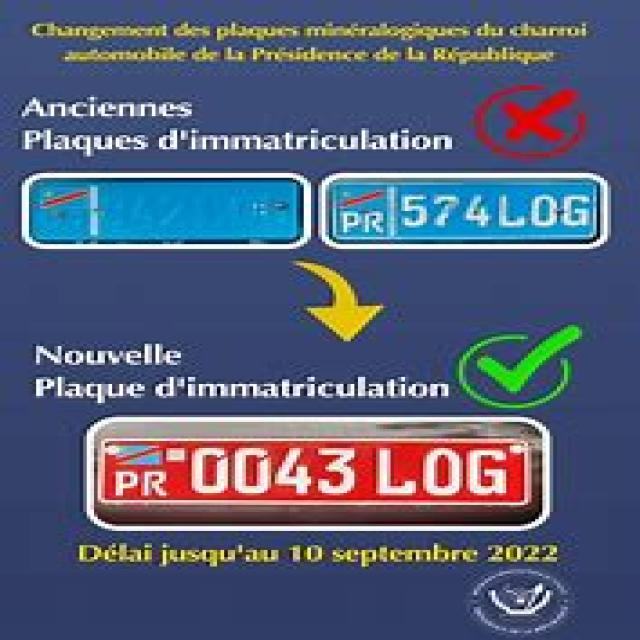Plaque: (94, 424, 540, 508), (326, 174, 606, 247)
